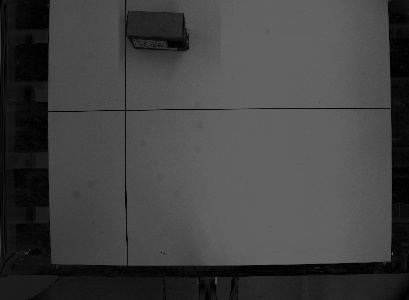b6: (122, 8, 192, 52)
